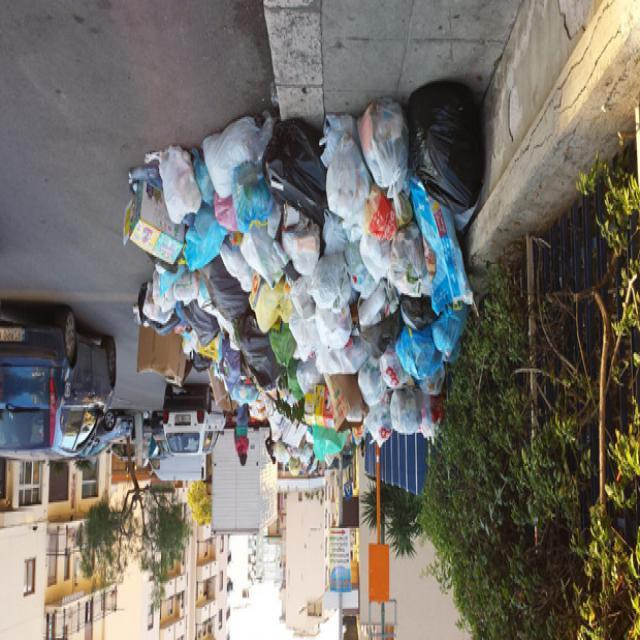Trashbag: (406, 79, 488, 211), (259, 117, 330, 226), (202, 255, 254, 321), (234, 313, 279, 382), (364, 312, 408, 352), (188, 297, 218, 343), (396, 292, 438, 324)
